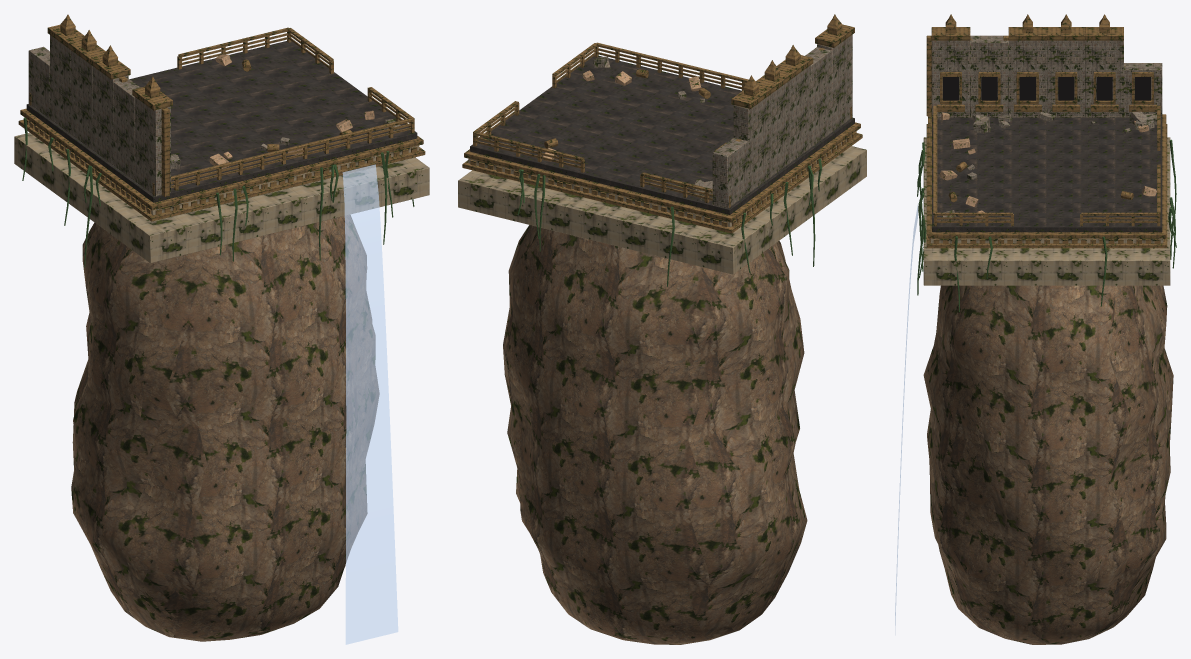
Rendered from Room_Miniboss.fbx.
3 renders of one model, left to right at view 1: azimuth 30°, elevation 25°; view 2: azimuth 150°, elevation 25°; view 3: azimuth 270°, elevation 25°, orthographic. The views are drawn at different scales.
Parts seen in each view (by area): view 1: Miniboss_Rock_LOD0, Miniboss_Structure_LOD0, Waterfall_Miniboss; view 2: Miniboss_Rock_LOD0, Miniboss_Structure_LOD0; view 3: Miniboss_Rock_LOD0, Miniboss_Structure_LOD0, Waterfall_Miniboss.
Boxes of the visible parts, x1=… form: Miniboss_Rock_LOD0: x1=71, y1=215, x2=379, y2=641; Miniboss_Structure_LOD0: x1=14, y1=14, x2=429, y2=267; Waterfall_Miniboss: x1=342, y1=164, x2=398, y2=644; Miniboss_Rock_LOD0: x1=503, y1=225, x2=807, y2=644; Miniboss_Structure_LOD0: x1=458, y1=14, x2=866, y2=286; Miniboss_Rock_LOD0: x1=923, y1=285, x2=1173, y2=644; Miniboss_Structure_LOD0: x1=917, y1=14, x2=1176, y2=311; Waterfall_Miniboss: x1=895, y1=205, x2=917, y2=634.
Size of what is drawn, in the model's own units: 26.5 by 53.64 by 24.48.
